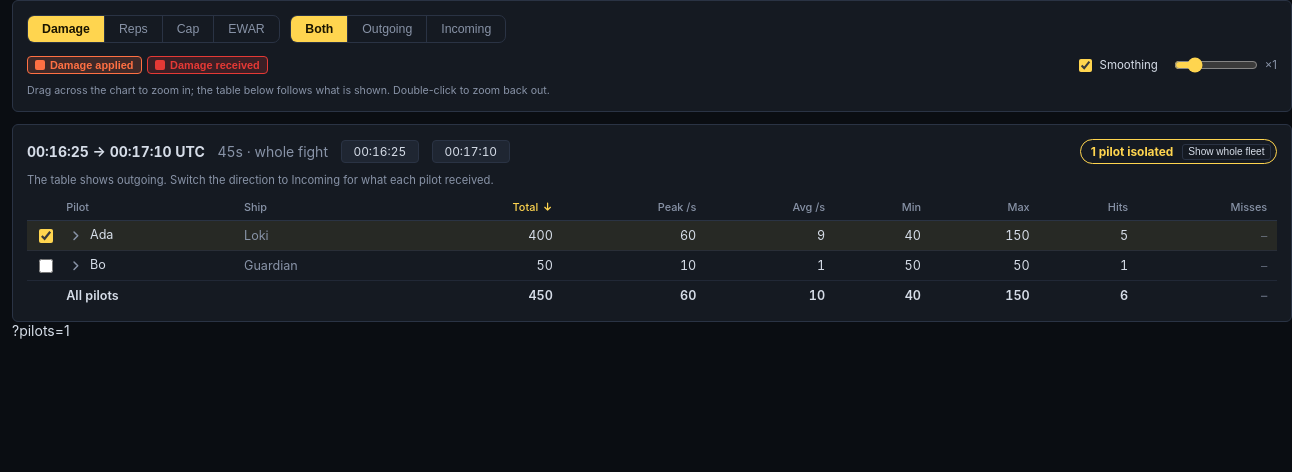
TimelineTab › ticking a second pilot compares them, each named in the chart legend
expect the row with test id "stats-row-1" is shown: met, box [27, 221, 1277, 250]
Click the checkbox named "Isolate Bo" at (46, 266), box [39, 258, 53, 272]
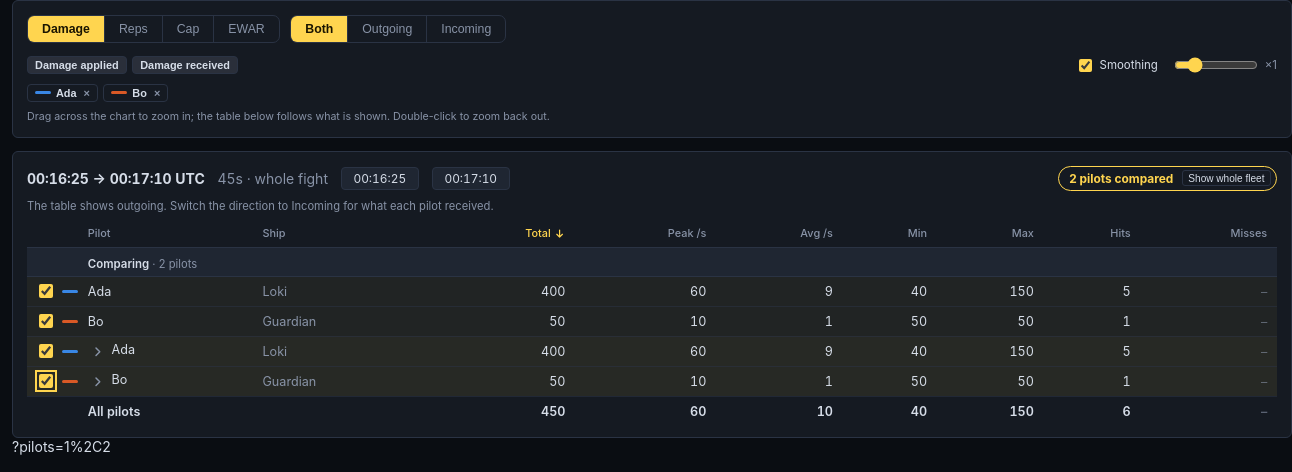
expect the element with test id "isolation-bar" shows "2 pilots compared": met, box [1069, 171, 1173, 186]
expect the buttons read "Ada×", "Bo×", in this order: met
// Removing one from the legend goes back to a single isolated pilot.
Click the button "Ada ×" at (62, 93), box [27, 84, 98, 102]
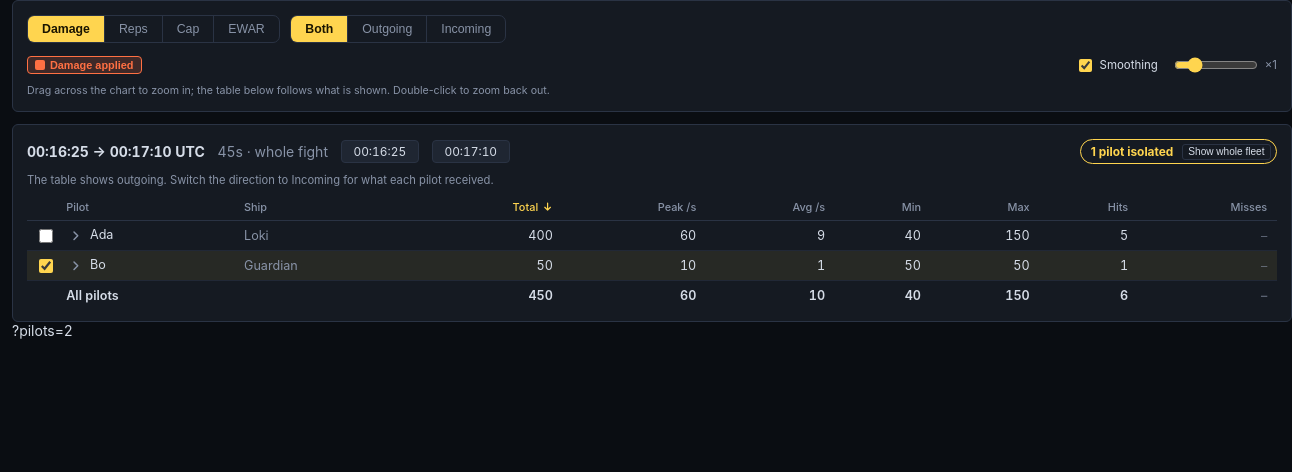
expect the text with test id "where" shows "pilots=2": met, box [12, 322, 72, 339]
expect the element with test id "compare-legend" is gone: met
